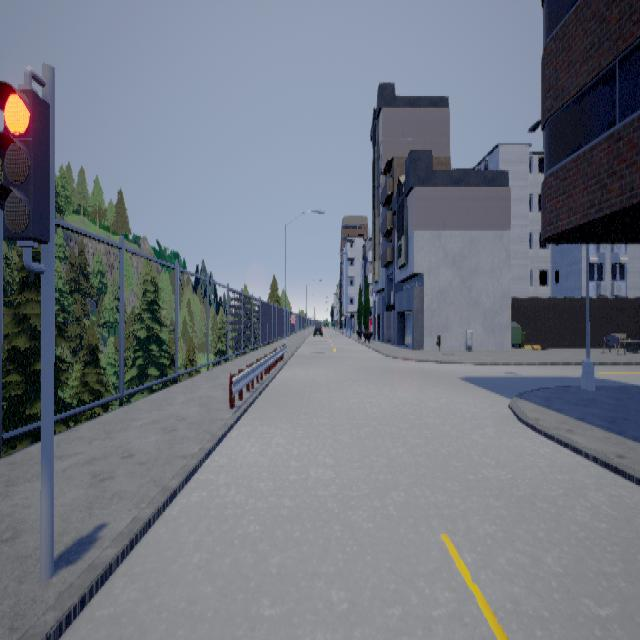red_light: (1, 64, 51, 273)
